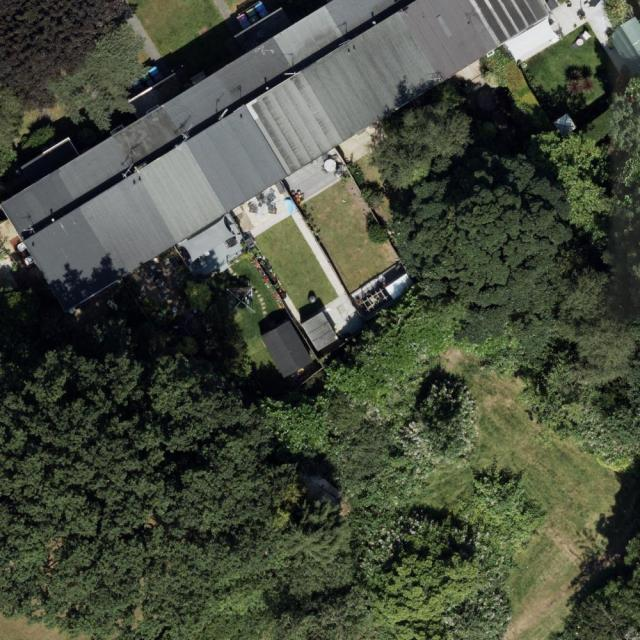roof: (2, 0, 581, 317)
